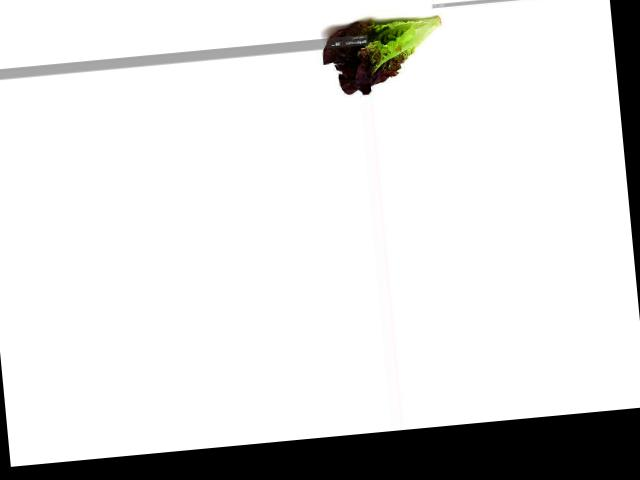lettuce: (316, 7, 452, 99)
